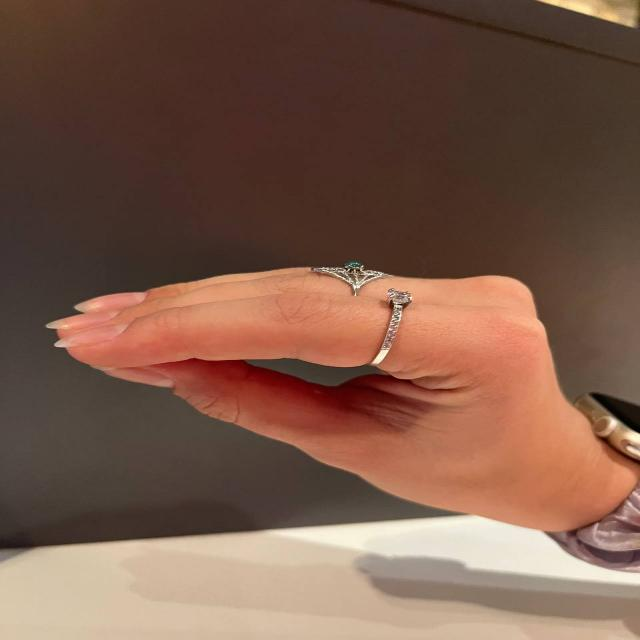zh: (36, 248, 596, 542)
